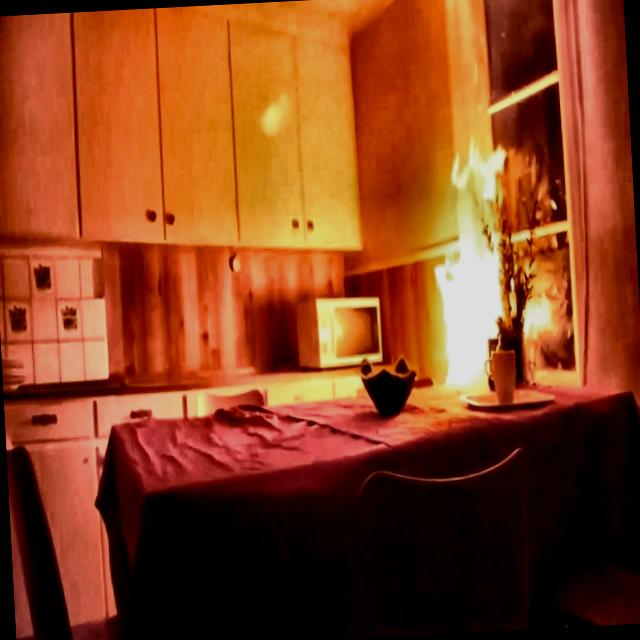fire: (414, 117, 566, 406)
